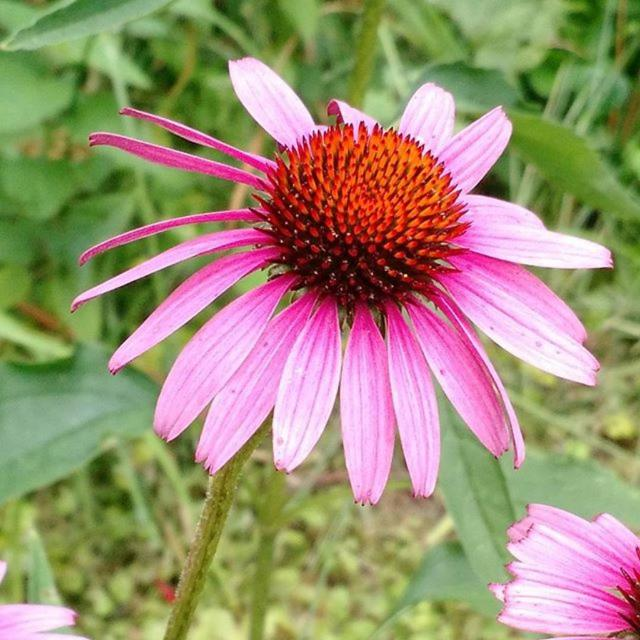Flower: (60, 60, 626, 516), (484, 501, 640, 639), (0, 559, 88, 639)
